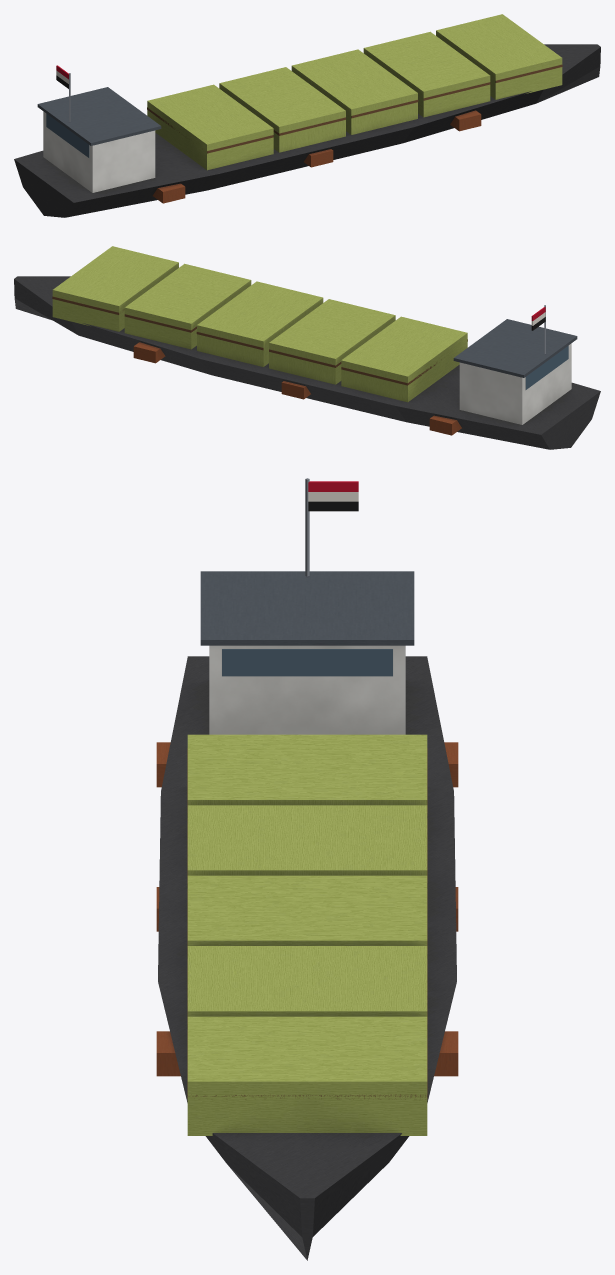
File: flodpram_tex.glb
3 views of the same model, one above another, from view 1: azimuth 30°, elevation 25°; view 2: azimuth 150°, elevation 25°; view 3: azimuth 270°, elevation 25° (orthographic). The views are drawn at different scales.
Visible parts, largest first — view 1: flodpram; view 2: flodpram; view 3: flodpram.
Part boxes in pixels (x1,y1,x2,y2): flodpram: [14, 14, 600, 217]; flodpram: [14, 246, 600, 449]; flodpram: [156, 478, 458, 1260].
Bounding box in the file's own units: 30 × 7.3 × 7.06.
11 materials, 6 textured.
